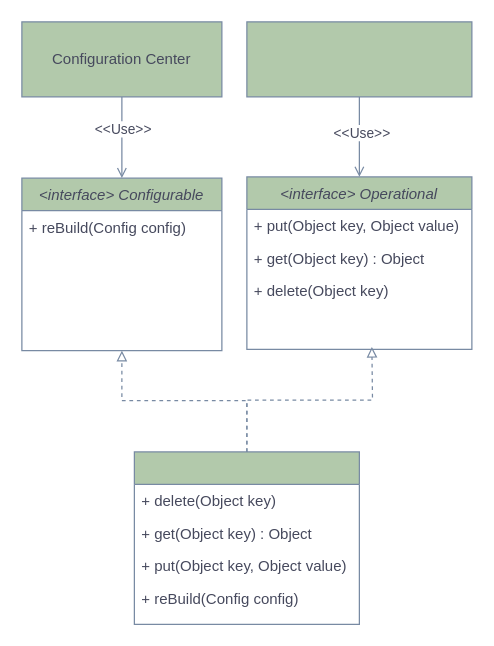
Image size: 494x646. Some labels were removed from this diagram. Each missing label, with the box of its shape:
Application: (246, 21, 472, 97)
Cache: (133, 451, 359, 624)
